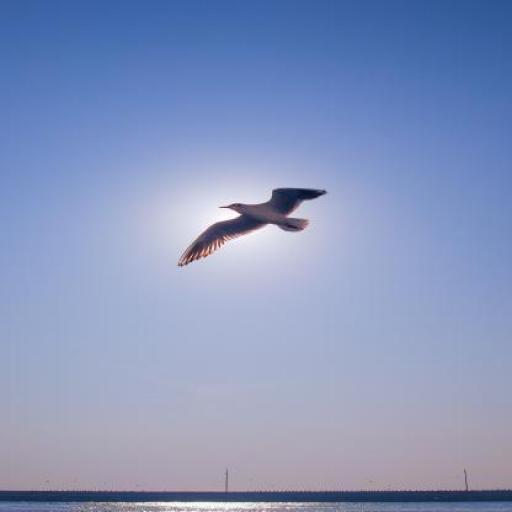bird: (177, 188, 327, 267)
